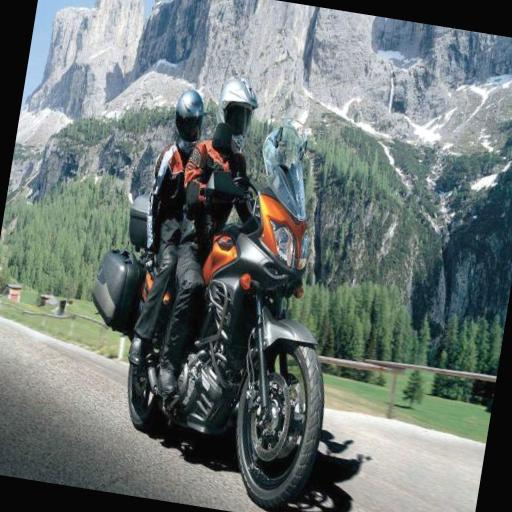helmet: (148, 52, 274, 473)
